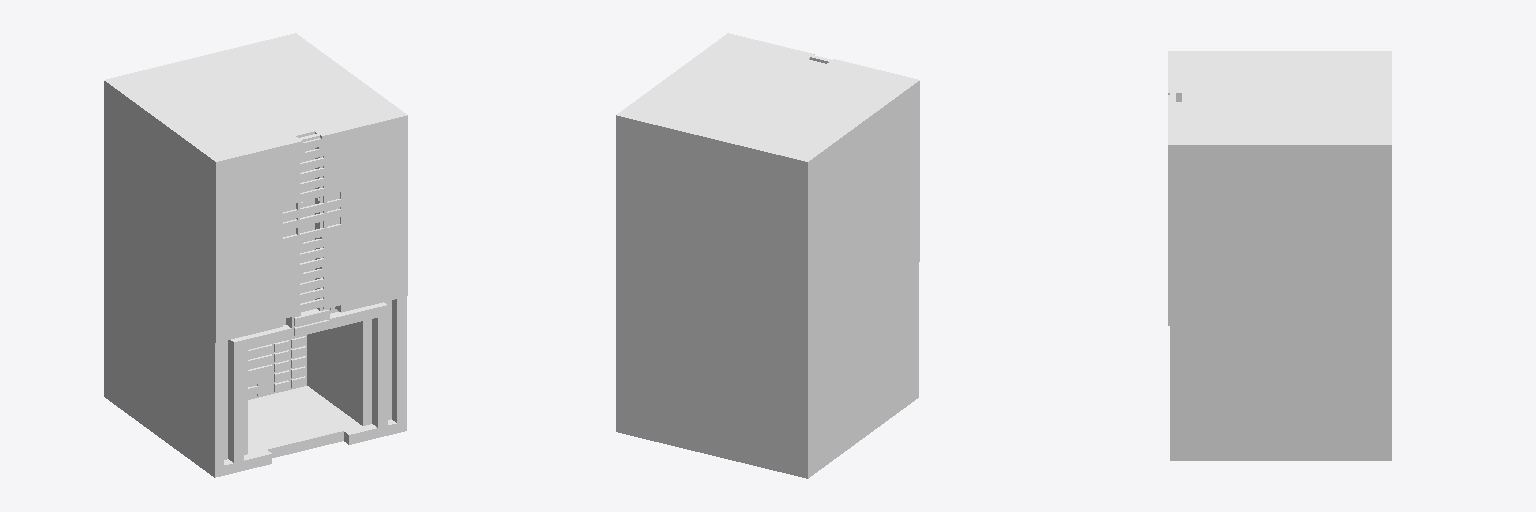
The model's file is OCHAG.obj.
3 views of the same model, side by side, from view 1: azimuth 30°, elevation 25°; view 2: azimuth 150°, elevation 25°; view 3: azimuth 270°, elevation 25° (orthographic).
Parts seen in each view (by area): view 1: OCHAG; view 2: OCHAG; view 3: OCHAG.
Part boxes in pixels (bbox=[...]): OCHAG: bbox=[104, 33, 407, 477]; OCHAG: bbox=[616, 33, 919, 478]; OCHAG: bbox=[1168, 51, 1391, 460].
Bounding box in the file's own units: 80 × 126 × 81.